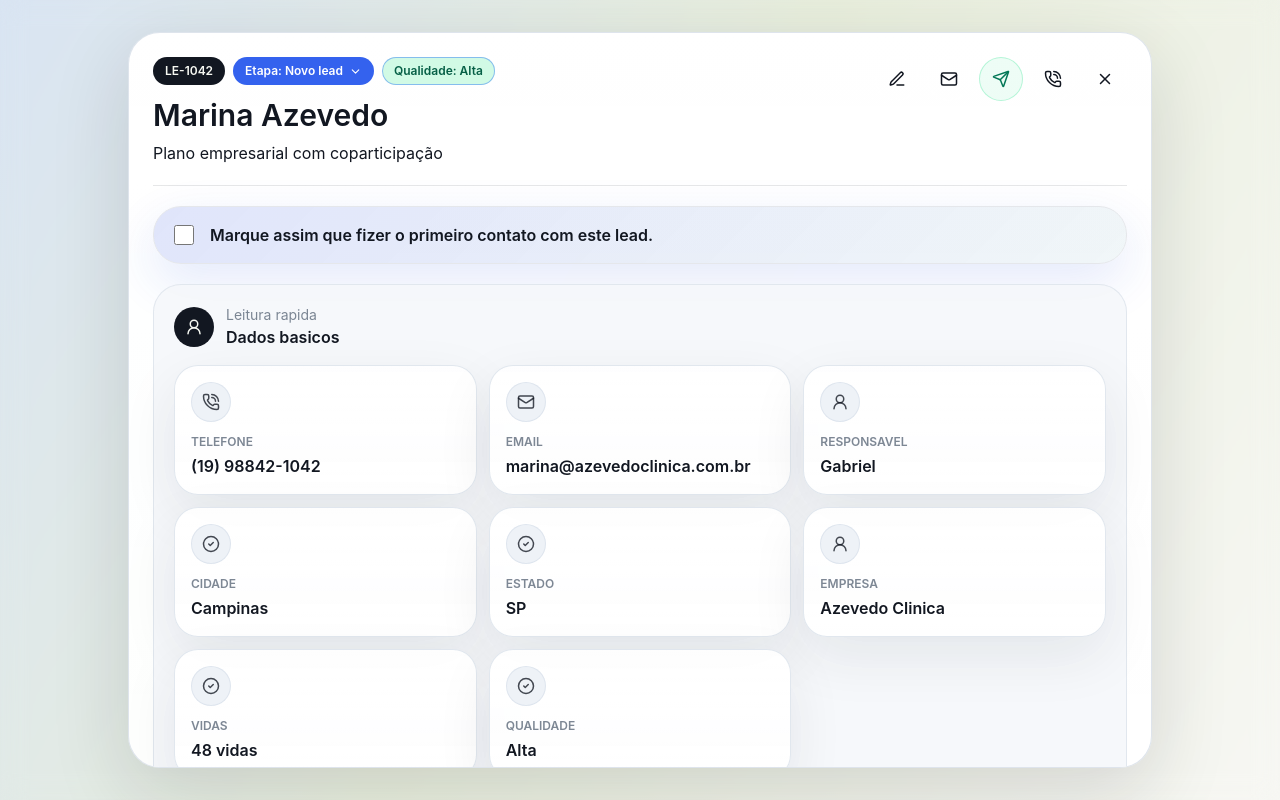
Test: LeadDetailsPopup › permite que gestor ajuste o responsavel do lead no formulario
Click the button titled "Editar lead" at coordinates (897, 79), box 875,57 -> 919,101
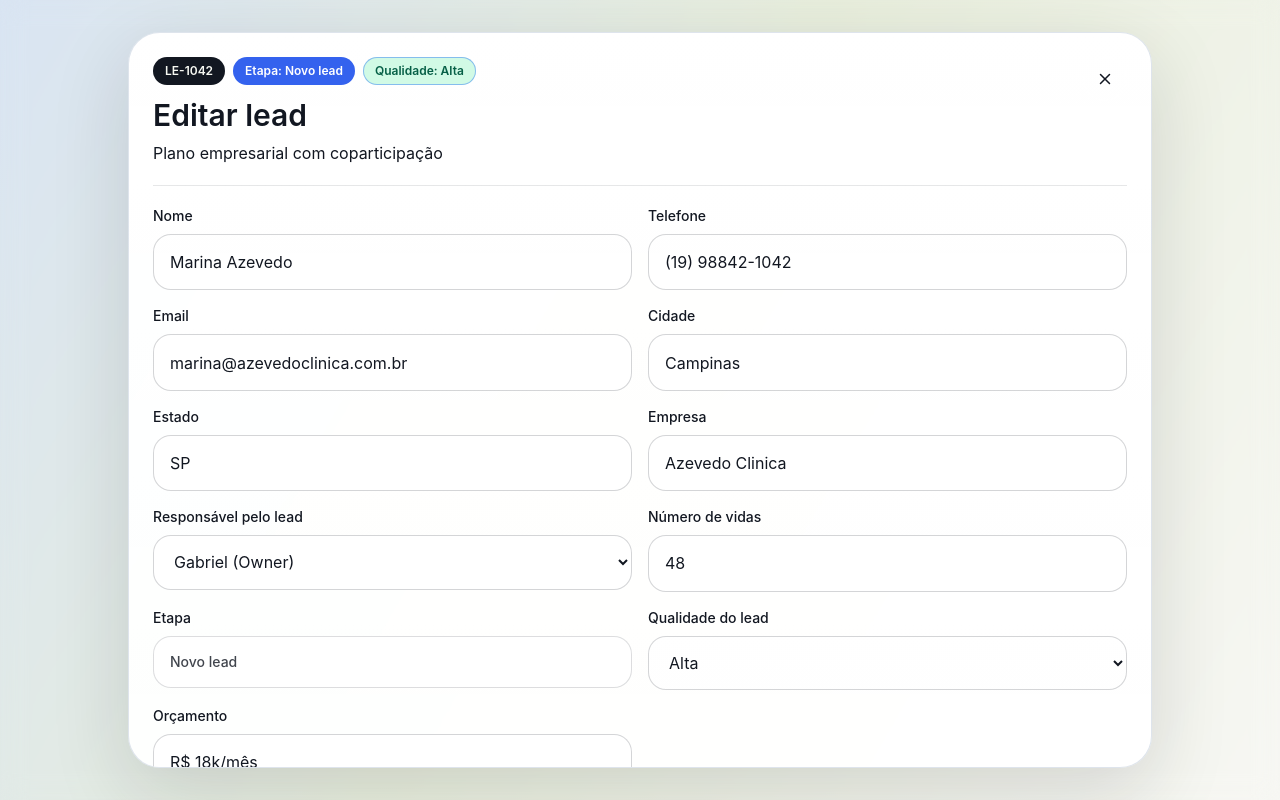
Expected: the dropdown labelled "Responsável pelo lead" shows "Gabriel (Owner)", 153,535 -> 632,590
